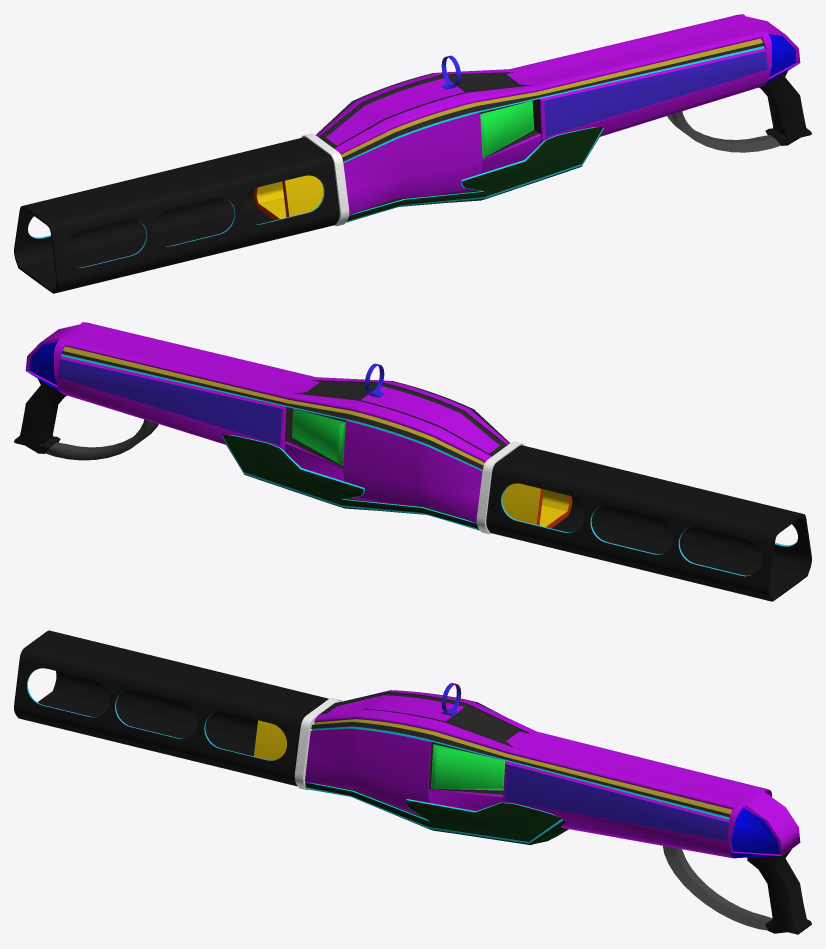
The model's file is Progeny Shotgun Alpha.FBX.
3 renders of one model, top to bottom at view 1: azimuth 30°, elevation 25°; view 2: azimuth 150°, elevation 25°; view 3: azimuth 330°, elevation 25°, orthographic.
Parts seen in each view (by area): view 1: Object002, Box009, Box022, Box017, Box020, Cylinder005, Box019; view 2: Object002, Box009, Box022, Box017, Box020, Cylinder005, Box019; view 3: Object002, Box009, Box022, Box020, Cylinder005, Box019, Box017.
Part boxes in pixels (x1,y1,x2,y2): Object002: [316, 14, 800, 215]; Box009: [14, 137, 339, 293]; Box022: [346, 126, 604, 222]; Box017: [253, 175, 323, 220]; Box020: [759, 71, 811, 145]; Cylinder005: [667, 111, 780, 152]; Box019: [301, 133, 349, 226]; Object002: [25, 322, 509, 523]; Box009: [486, 445, 811, 601]; Box022: [221, 434, 479, 530]; Box017: [502, 483, 572, 528]; Box020: [14, 379, 66, 453]; Cylinder005: [45, 419, 158, 460]; Box019: [476, 441, 524, 534]; Object002: [305, 690, 800, 858]; Box009: [14, 630, 328, 786]; Box022: [305, 782, 568, 844]; Box020: [747, 849, 811, 934]; Cylinder005: [663, 846, 772, 930]; Box019: [294, 697, 342, 790]; Box017: [254, 720, 286, 760].
Bounding box in the file's own units: 108 × 21.94 × 13.62.
